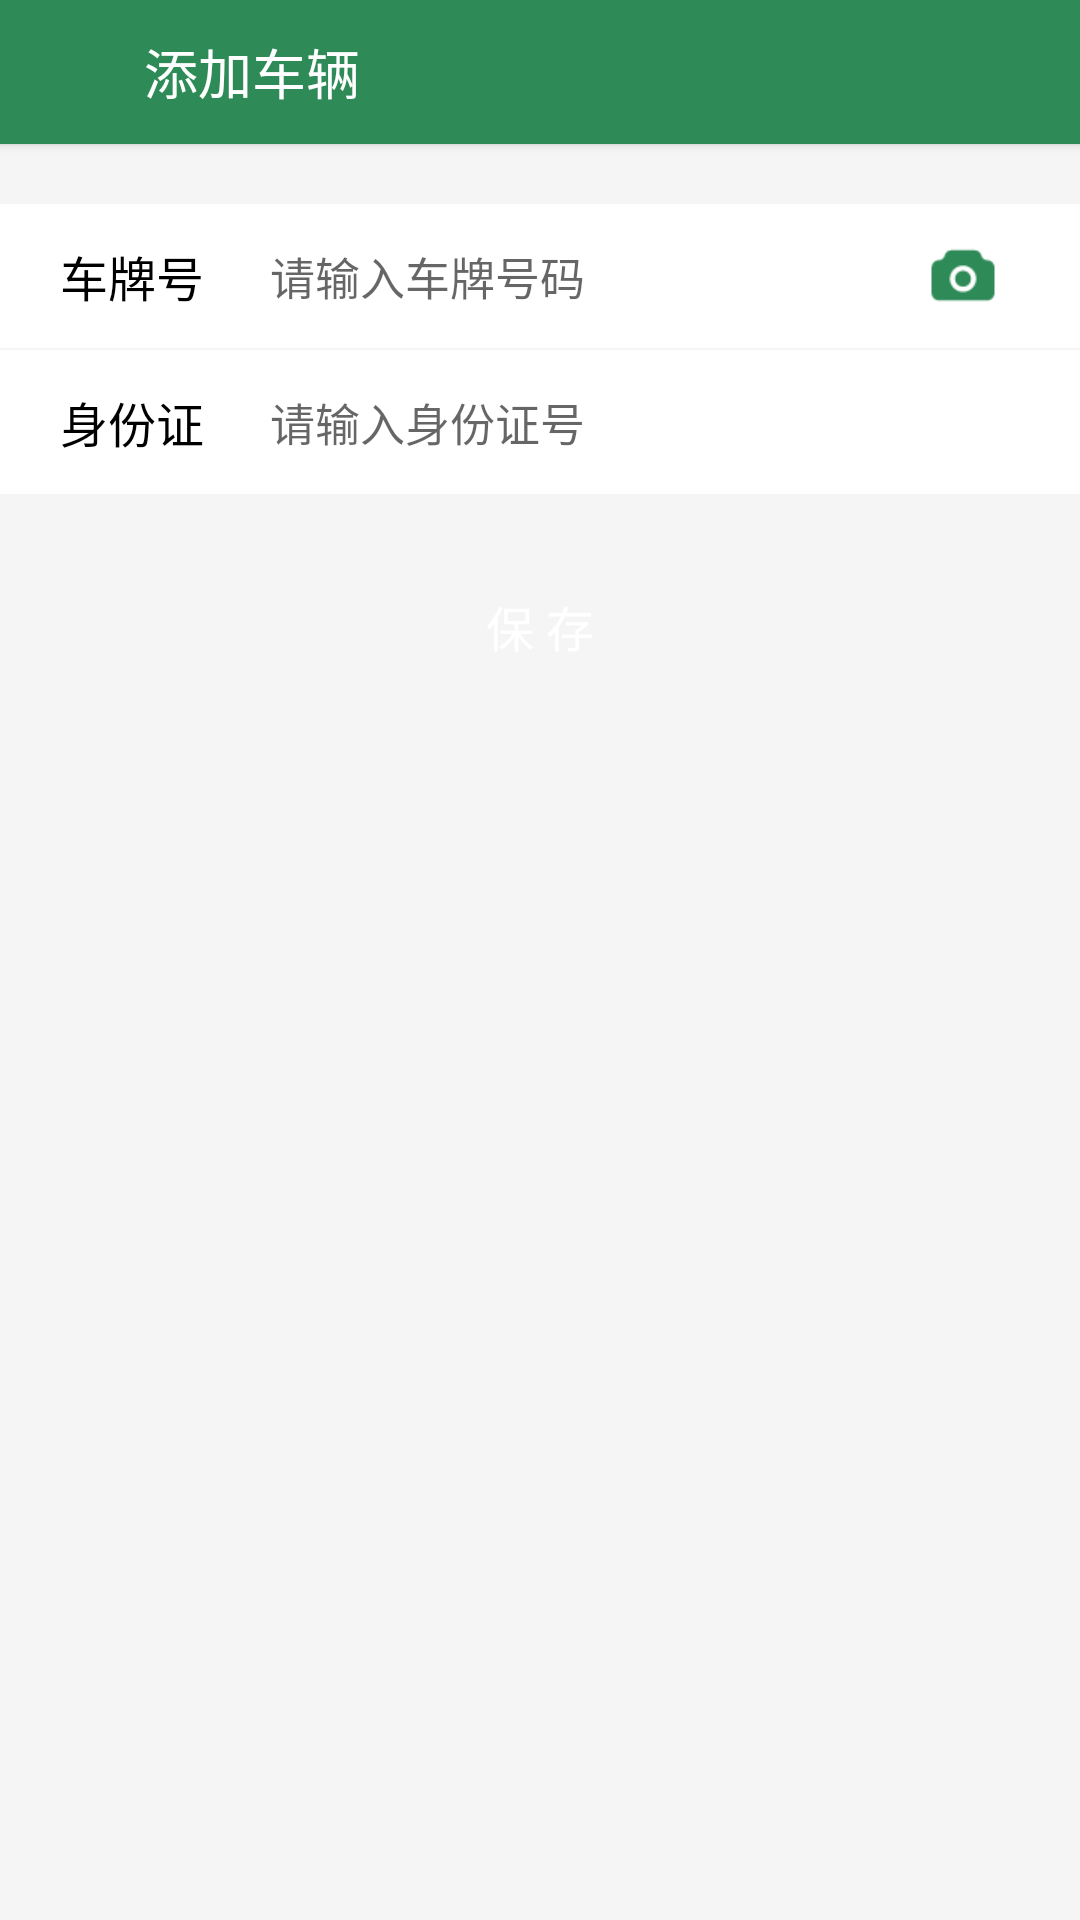

Point at icon controls on the screen. Image size 1080*1920, points as (x=x, y=y).
add camera: (x=963, y=275)
